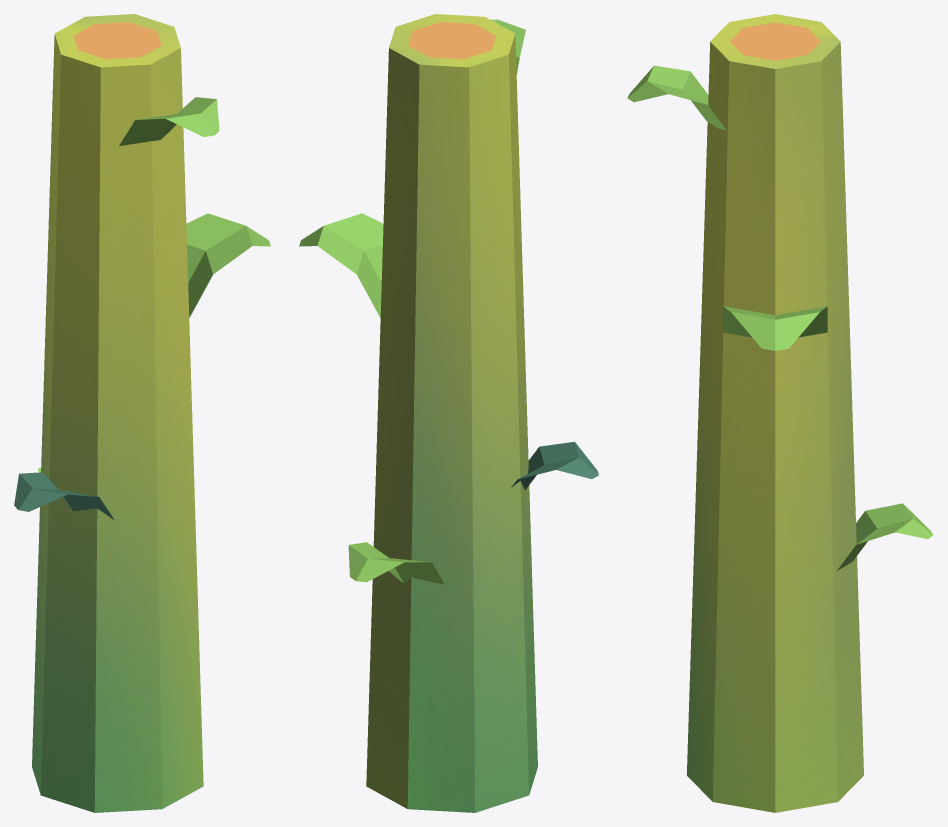
The model's file is banana_cut.fbx.
3 views of the same model, side by side, from view 1: azimuth 30°, elevation 25°; view 2: azimuth 150°, elevation 25°; view 3: azimuth 270°, elevation 25° (orthographic).
Parts seen in each view (by area): view 1: banan_cut; view 2: banan_cut; view 3: banan_cut.
Boxes of the visible parts, bbox=[...] form: banan_cut: bbox=[14, 14, 270, 812]; banan_cut: bbox=[299, 14, 598, 812]; banan_cut: bbox=[627, 14, 933, 812].
Bounding box in the file's own units: 106 × 271 × 103.
